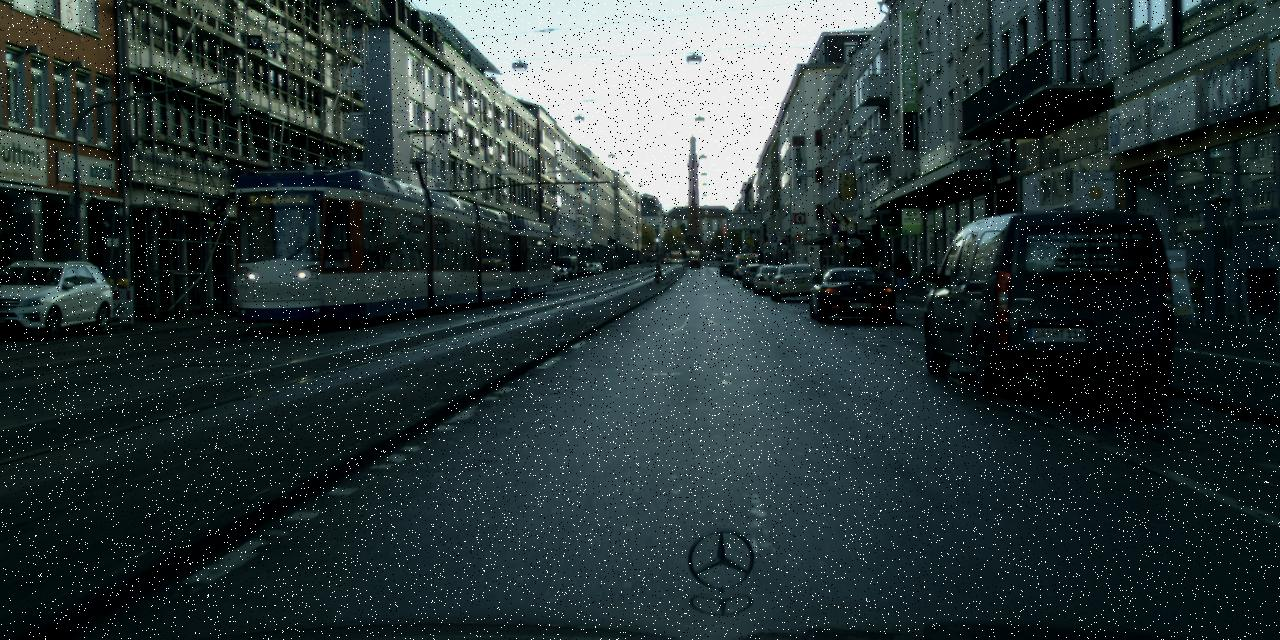ped: (892, 251, 910, 295), (800, 256, 809, 278), (655, 259, 663, 280), (772, 258, 779, 276), (743, 262, 749, 278), (706, 257, 708, 262)
